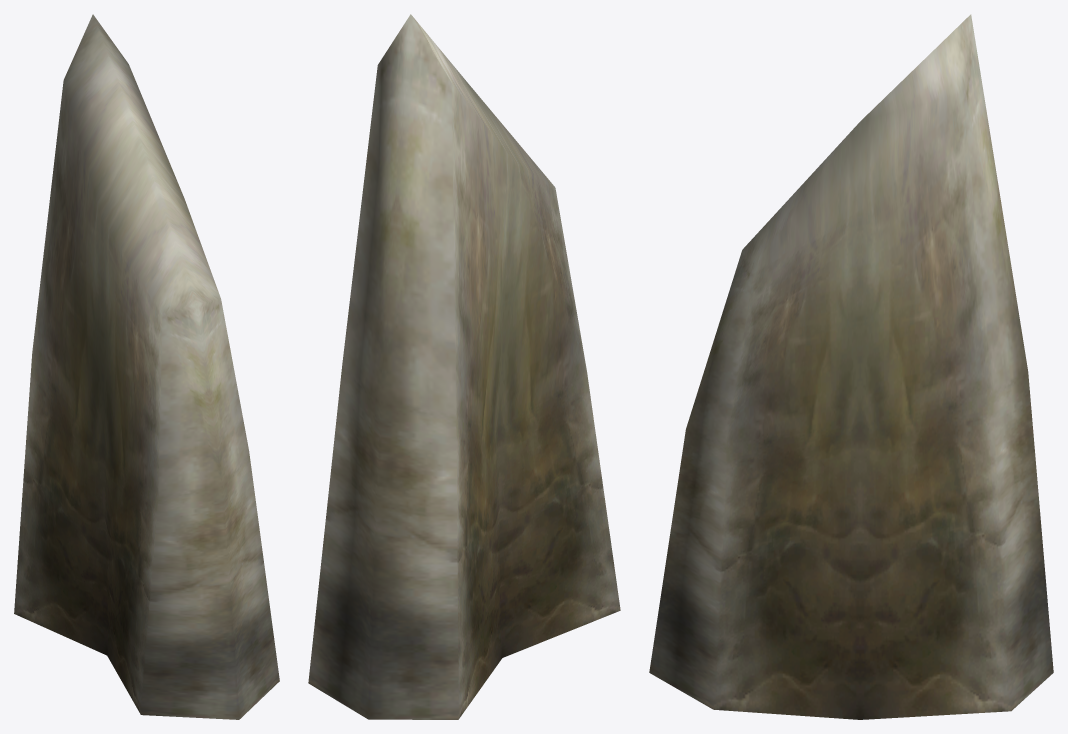
The model's file is arathirock01.glb.
The picture shows the model from 3 angles, left to right: view 1: azimuth 30°, elevation 25°; view 2: azimuth 150°, elevation 25°; view 3: azimuth 270°, elevation 25°; orthographic projection. The views are drawn at different scales.
Size of the model in its own units: 1.96 by 7.11 by 3.95.
Materials: 1 (1 with a texture image).
